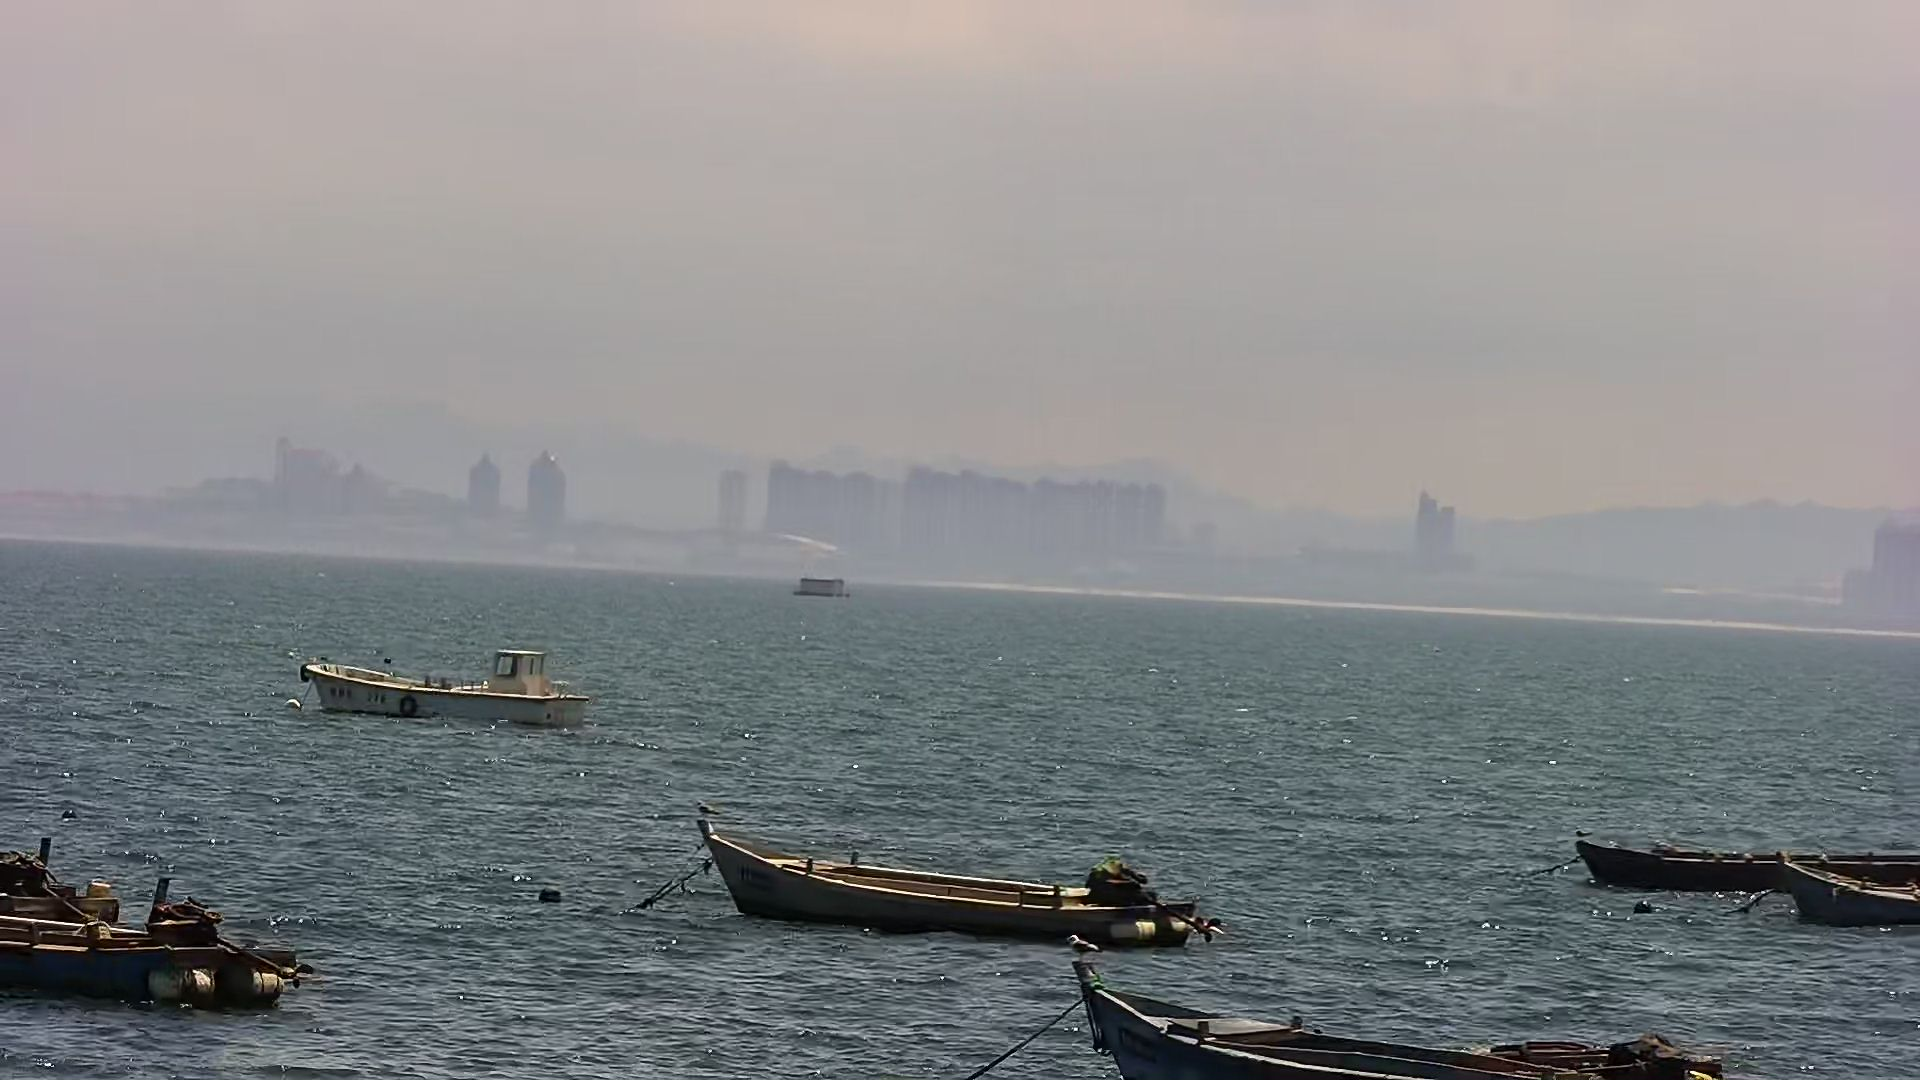ball: (530, 876, 576, 909), (1633, 893, 1658, 919), (276, 691, 301, 709)
boat: (1058, 957, 1731, 1080), (682, 814, 1249, 956), (1, 833, 334, 1019), (299, 634, 624, 735), (1549, 816, 1920, 893), (1764, 849, 1920, 938)
platform: (785, 568, 862, 603)
